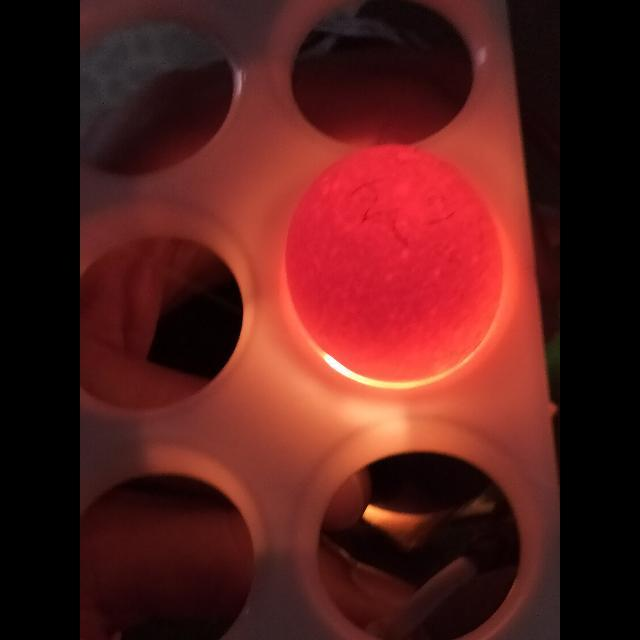Infertile: (277, 142, 511, 376)
